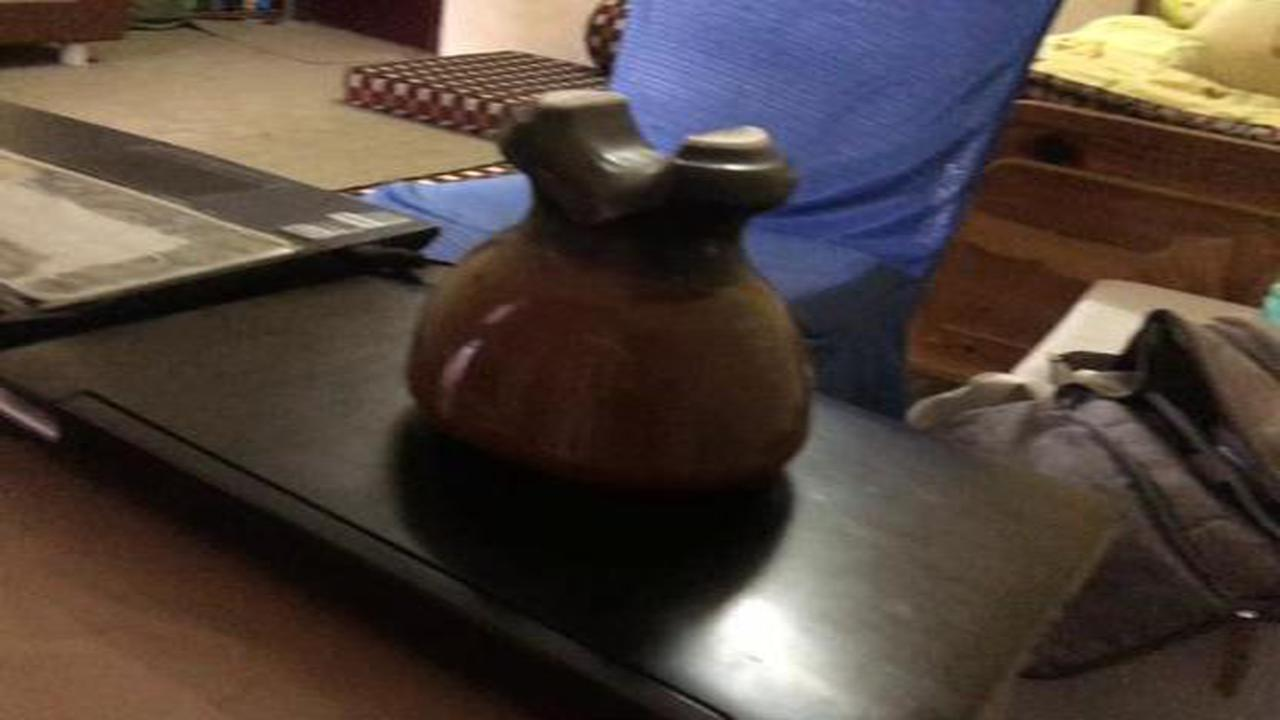insulator_pin: (384, 71, 844, 515)
